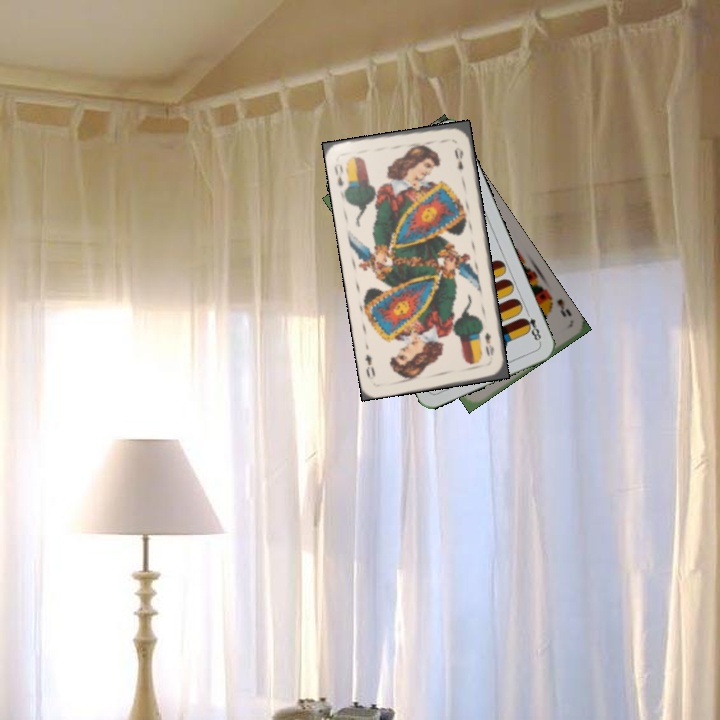E8: (519, 307, 544, 346)
EO: (481, 329, 497, 359), (330, 160, 346, 189)
S9: (543, 290, 574, 319)
